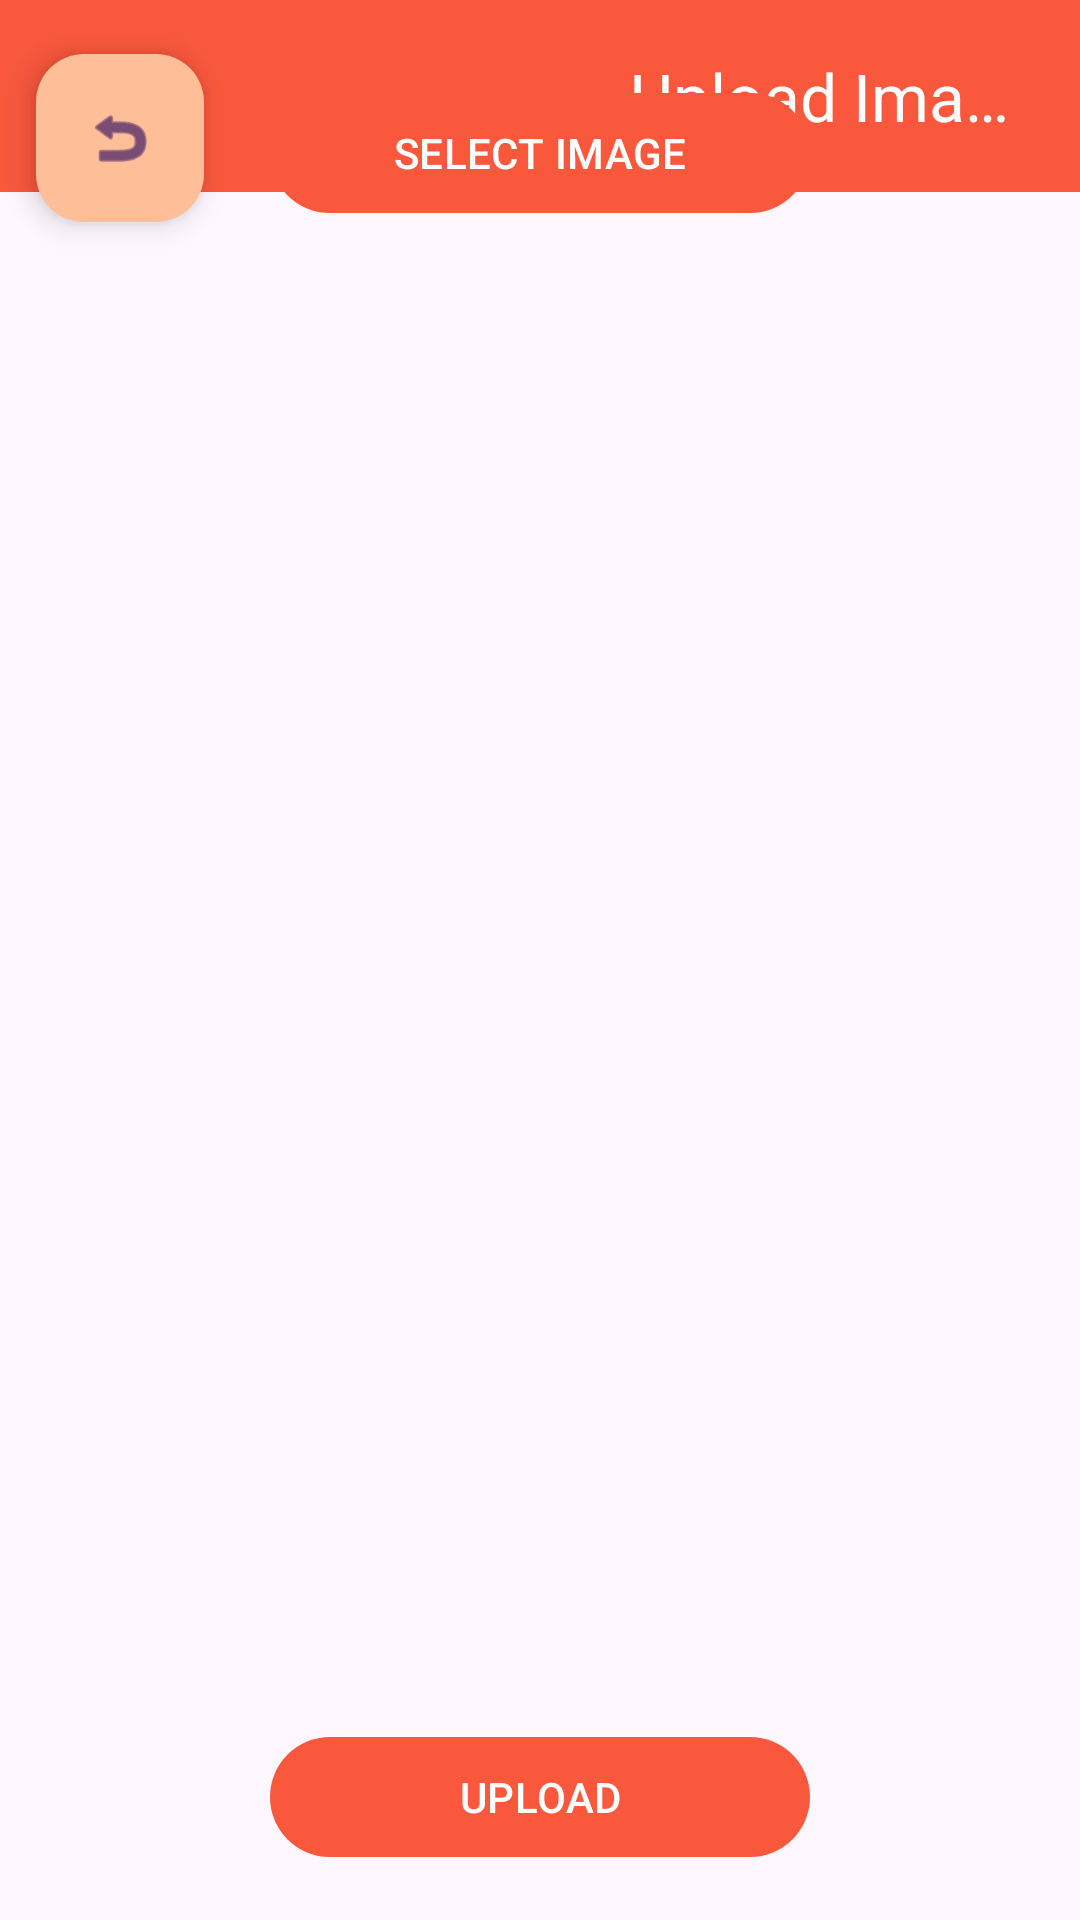

Where icons sit on this 1080px x 1920px app screen, as (x1, y1, x2, y2):
Return to previous screen: (0, 0, 240, 223)
